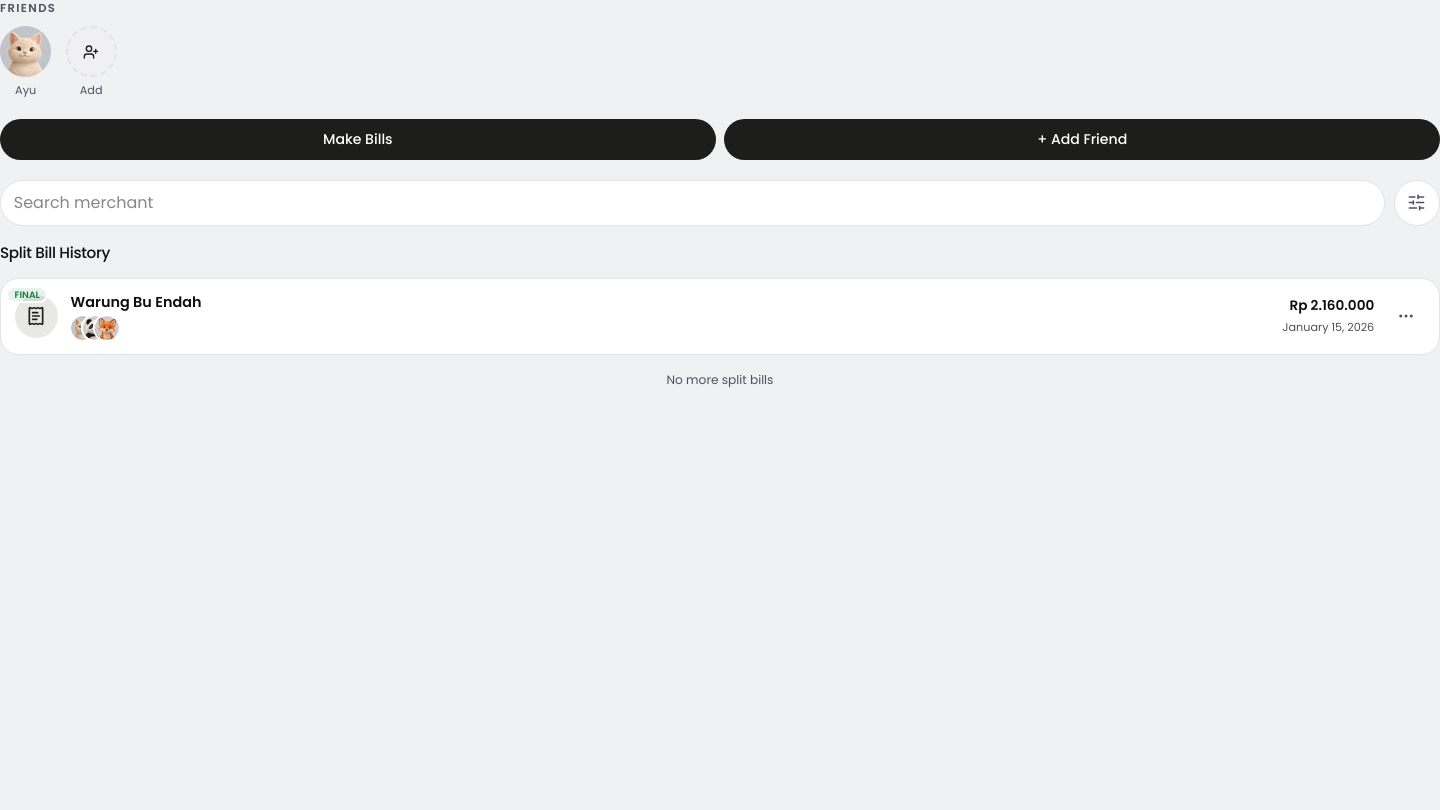
split-bill history section › opens the action sheet and deletes the bill after confirmation
Click the button named "Split bill actions".
click(1406, 316)  # box [1387,297,1425,335]
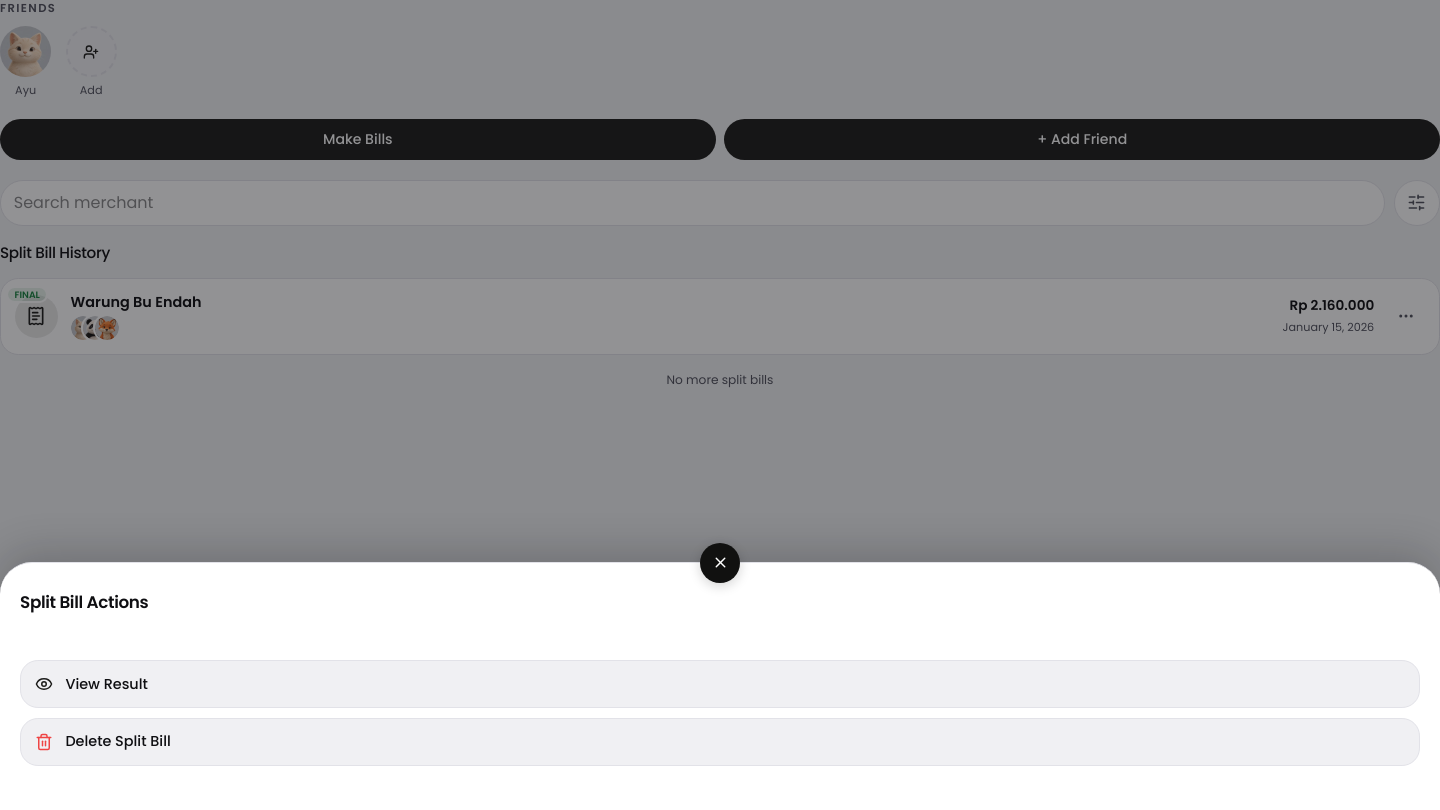
Click the button "Delete Split Bill".
click(118, 741)  # box [20,718,1420,766]
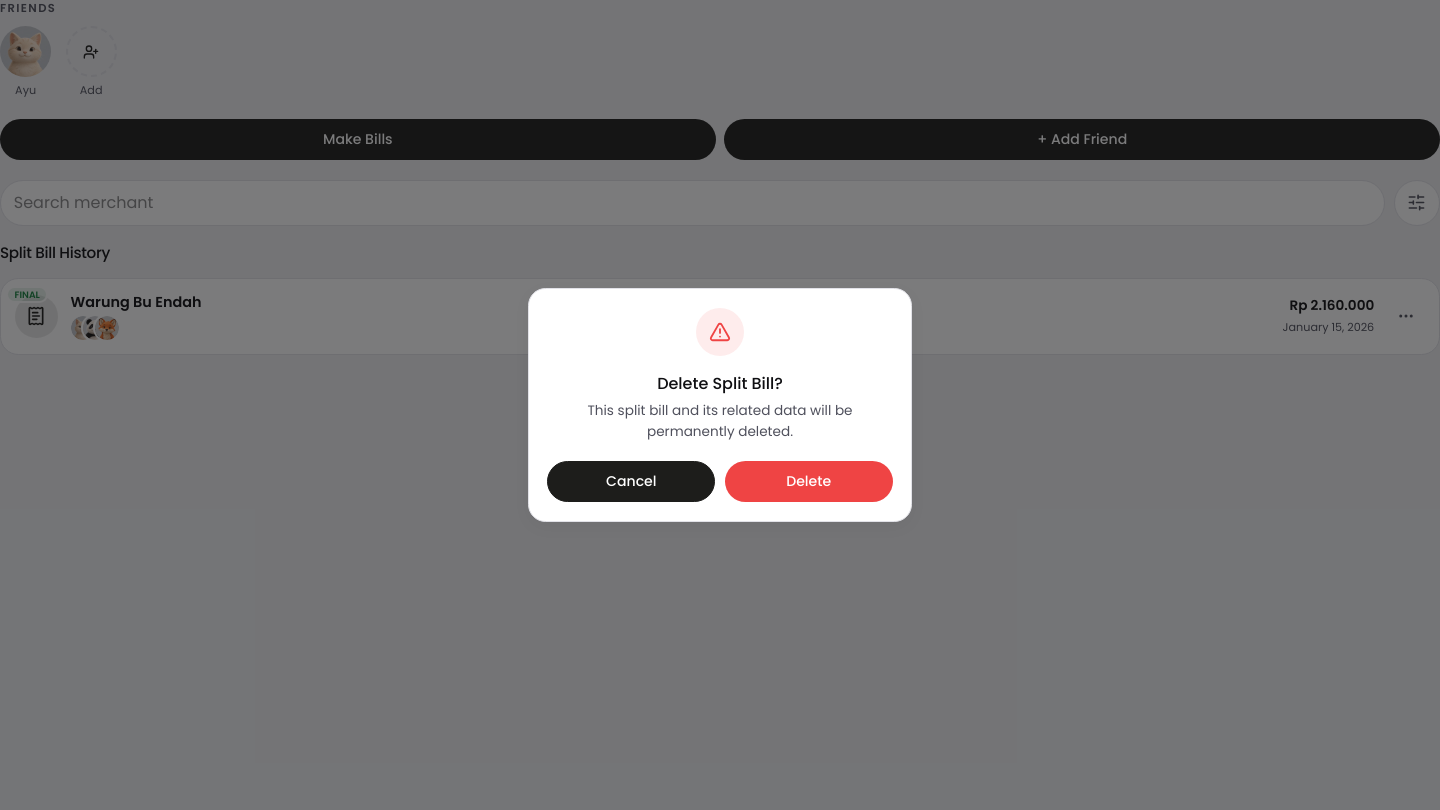
Click the button "Delete".
click(809, 481)  # box [725,461,893,502]
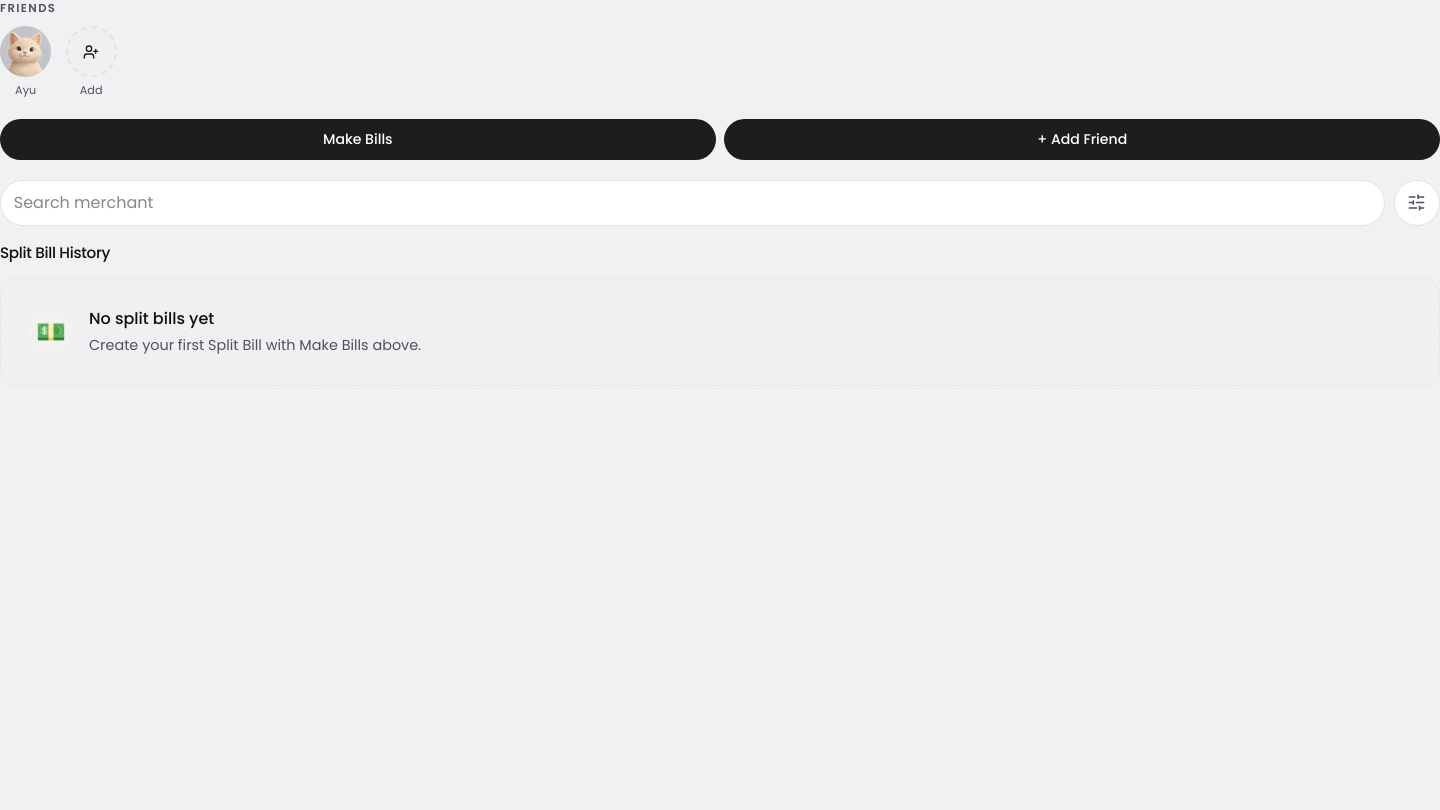
Now the heading "No split bills yet" is shown, box [89,307,214,330]
